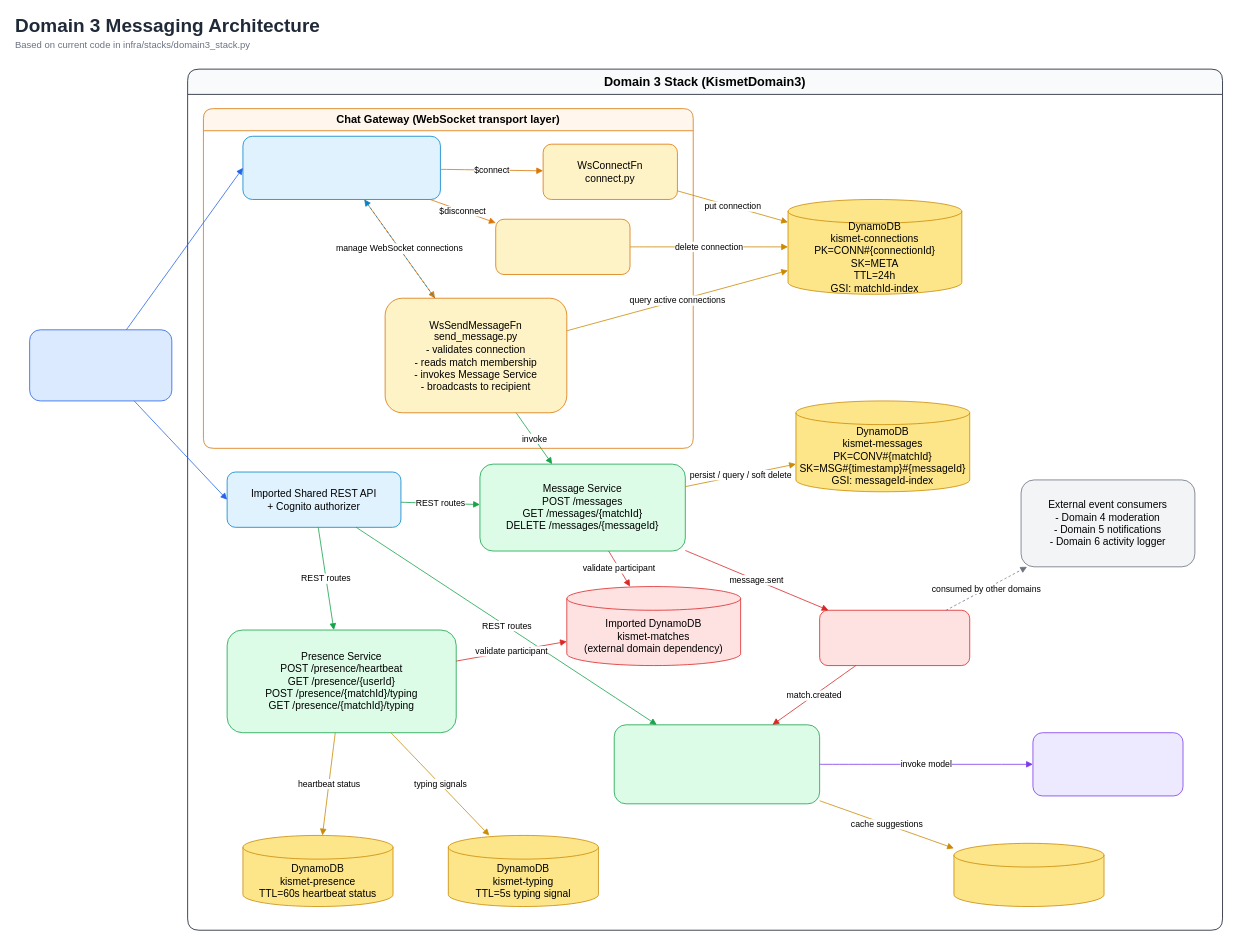
The diagram is 1236 pixels wide and 944 high, and some of its shapes have lost their labels. The shapes that lost their labels are listed below. From the top down, each one's centre as x and y in pixels, then its label:
pixel 341 167: WebSocket API kismet-chat-ws /dev $connect / $disconnect / $default
pixel 562 246: WsDisconnectFn disconnect.py
pixel 100 365: Clients - Web app / mobile app - Authenticated users
pixel 894 637: Imported EventBridge Bus kismet-events
pixel 716 764: Icebreaker Service POST /icebreaker/generate GET /icebreaker/{matchId}
pixel 1107 764: Amazon Bedrock Claude 3 Haiku
pixel 1028 875: DynamoDB kismet-icebreakers
